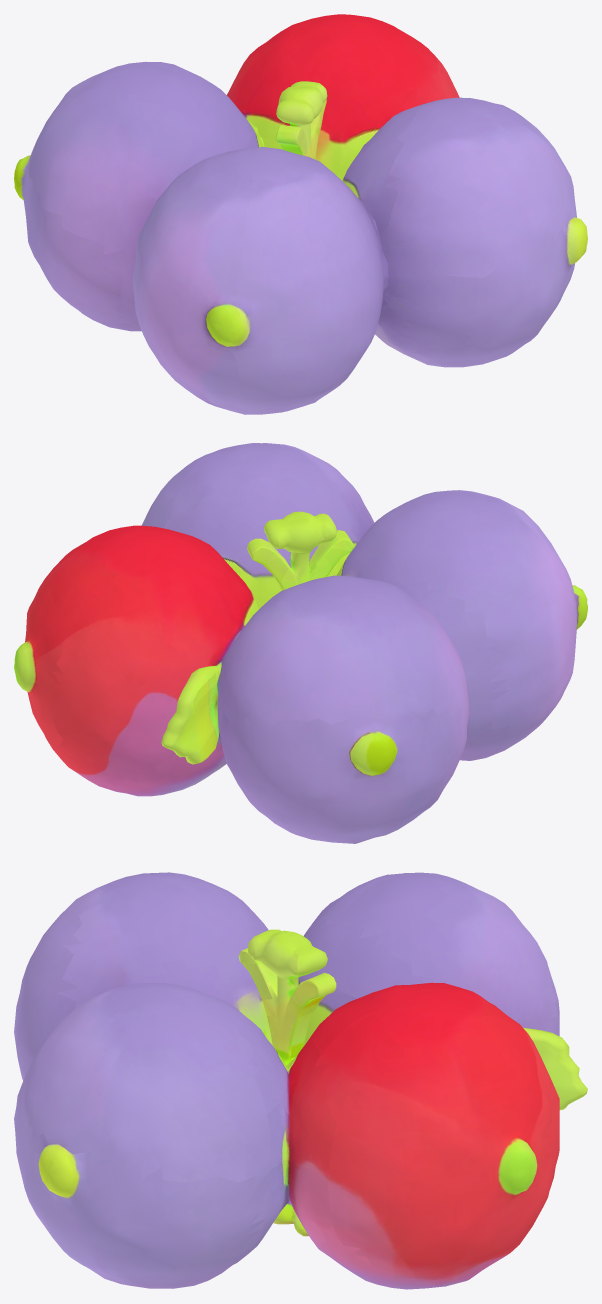
File: s1_gen_berry.glb
3 views of the same model, one above another, from view 1: azimuth 30°, elevation 25°; view 2: azimuth 150°, elevation 25°; view 3: azimuth 270°, elevation 25° (orthographic). The views are drawn at different scales.
Size of the model in its own units: 1.82 by 1.06 by 1.91.
1 material, 1 textured.
